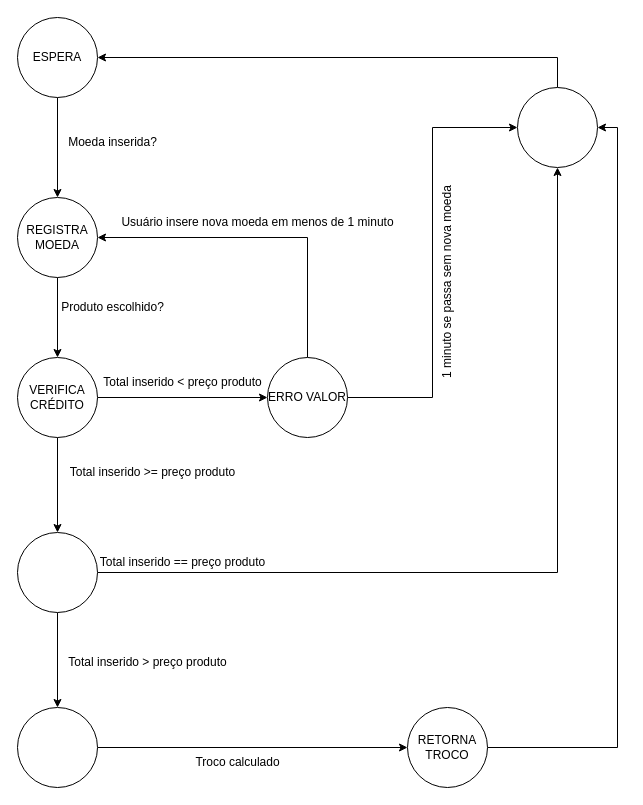
The diagram is 643 pixels wide and 805 high, and some of its shapes have lost their labels. The shapes that lost their labels are listed below. From the top down, each one's centre as x and y in pixels, then its label:
At pixel 557 127: "Finaliza".
At pixel 57 572: "LIBERA PRODUTO".
At pixel 57 747: "CALCULA TROCO".
